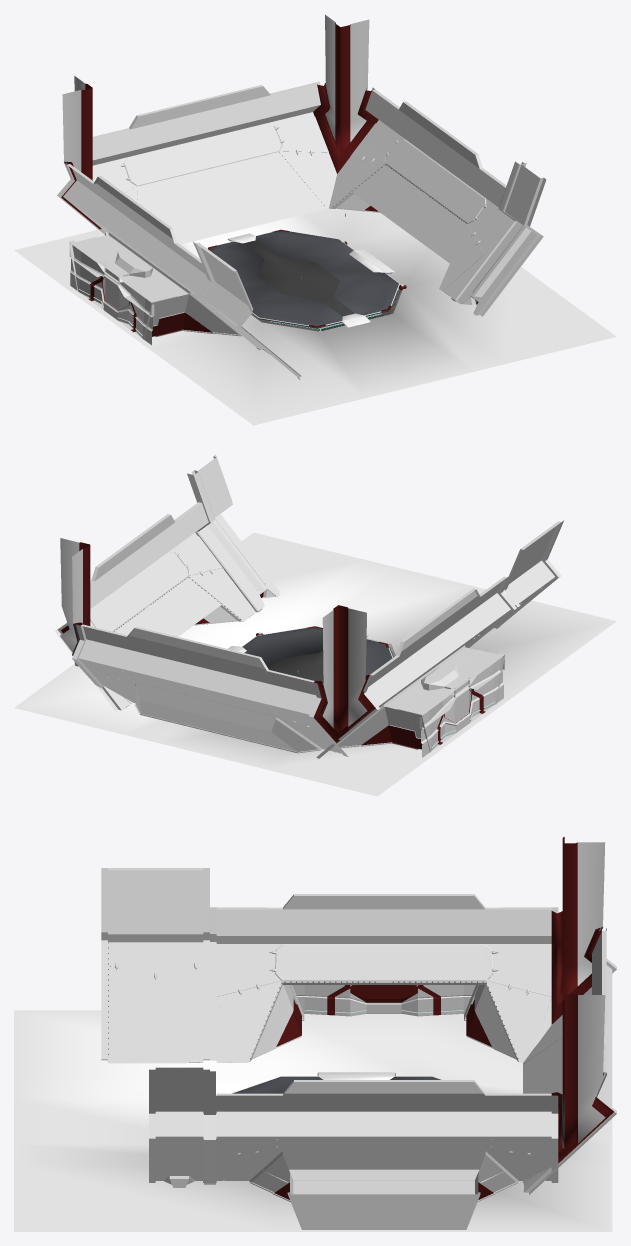
File: Hanger_V2.gltf
3 renders of one model, top to bottom at view 1: azimuth 30°, elevation 25°; view 2: azimuth 150°, elevation 25°; view 3: azimuth 270°, elevation 25°, orthographic. The views are drawn at different scales.
Visible parts, largest first — view 1: Plane.003, HangerWallLarge.001, HangerWallLargeHalf.000, HangerWallLargeDoor.001, Pad.001, HangerCornerStrut.002, Cube.001, Cube.000, HangerCornerStrut.001, Cube.006; view 2: Plane.003, HangerWallLarge.001, HangerWallLargeDoor.001, HangerWallLargeHalf.000, HangerCornerStrut.001, Pad.001, Cube.001, HangerCornerStrut.002, Cube.000, Cube.006; view 3: Plane.003, HangerWallLargeDoor.001, HangerWallLargeHalf.000, Cube.000, HangerCornerStrut.001, HangerCornerStrut.002, Cube.001, HangerWallLarge.001, Pad.001, Cube.006.
Boxes of the visible parts, x1,y1,x2,y2 form: Plane.003: (14, 208, 616, 425); HangerWallLarge.001: (92, 81, 336, 244); HangerWallLargeHalf.000: (329, 87, 511, 297); HangerWallLargeDoor.001: (57, 163, 255, 346); Pad.001: (208, 229, 399, 328); HangerCornerStrut.002: (313, 14, 378, 173); Cube.001: (457, 162, 546, 316); Cube.000: (193, 242, 301, 379); HangerCornerStrut.001: (61, 76, 101, 229); Cube.006: (451, 161, 526, 301); Plane.003: (14, 532, 616, 796); HangerWallLarge.001: (72, 624, 348, 756); HangerWallLargeDoor.001: (316, 576, 516, 758); HangerWallLargeHalf.000: (55, 502, 255, 711); HangerCornerStrut.001: (313, 605, 375, 742); Pad.001: (228, 626, 392, 684); Cube.001: (191, 454, 280, 607); HangerCornerStrut.002: (60, 538, 90, 655); Cube.000: (469, 520, 563, 647); Cube.006: (187, 472, 262, 612); Plane.003: (14, 1010, 612, 1231); HangerWallLargeDoor.001: (210, 894, 558, 1062); HangerWallLargeHalf.000: (216, 1080, 558, 1229); Cube.000: (101, 868, 209, 1063); HangerCornerStrut.001: (551, 837, 605, 1024); HangerCornerStrut.002: (551, 994, 613, 1163); Cube.001: (149, 1067, 209, 1187); HangerWallLarge.001: (523, 928, 616, 1194); Pad.001: (231, 1072, 442, 1093); Cube.006: (204, 1071, 215, 1184).
Size of the model in its own units: 172 by 76.17 by 198.
